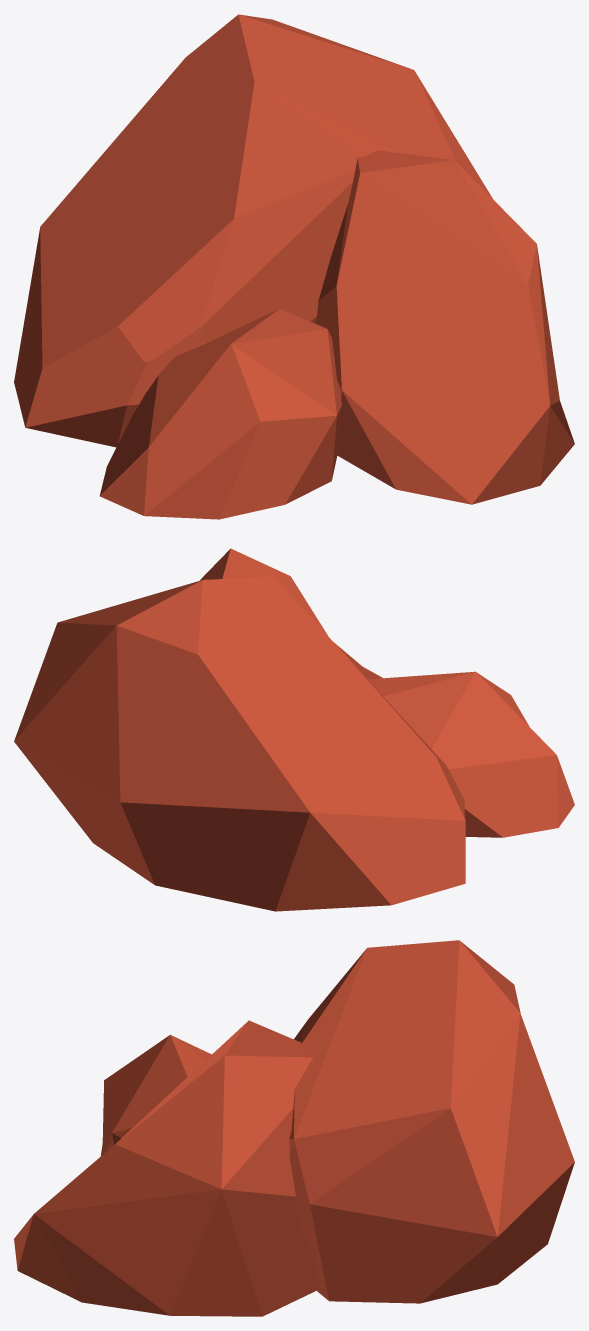
File: Stones_5.fbx
3 views of the same model, one above another, from view 1: azimuth 30°, elevation 25°; view 2: azimuth 150°, elevation 25°; view 3: azimuth 270°, elevation 25° (orthographic). The views are drawn at different scales.
Parts seen in each view (by area): view 1: Stones_5; view 2: Stones_5; view 3: Stones_5.
Boxes of the visible parts, x1,y1,x2,y2 form: Stones_5: (14, 14, 574, 519); Stones_5: (14, 548, 574, 911); Stones_5: (14, 940, 574, 1316).
Bounding box in the file's own units: 66.17 × 43.06 × 72.42.
Materials: 1 (1 with a texture image).
